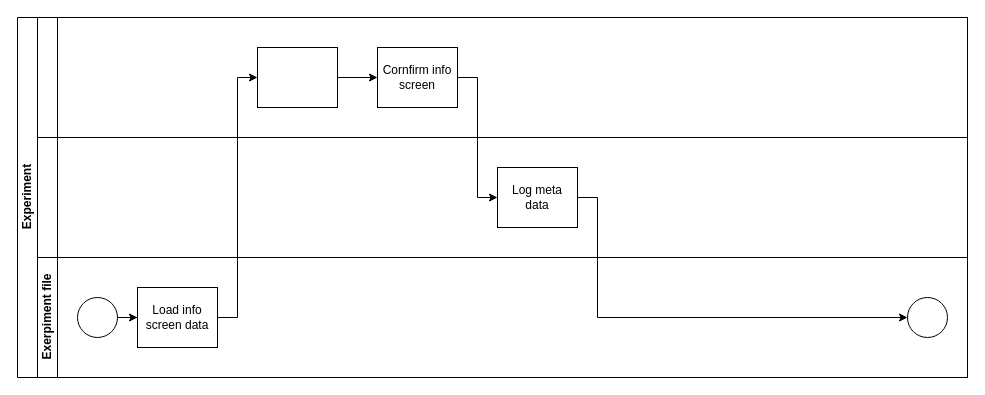
Image size: 985x395. Some labels were removed from this diagram. The shapes that lost their labels are listed below. From the top down, each one's box as (x1, y1, x2, y2) in pixels, then its label:
(256, 46, 338, 108): Read info screen
(36, 16, 968, 138): User
(36, 136, 968, 258): Participant file
